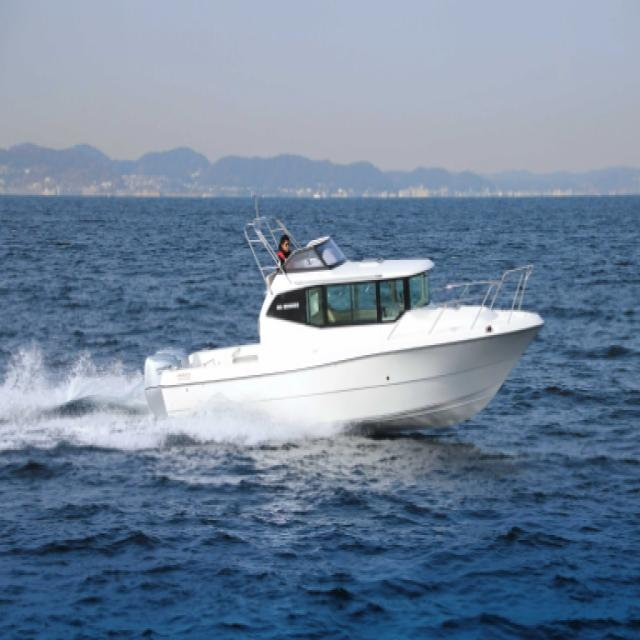houseboat: (142, 198, 550, 447)
